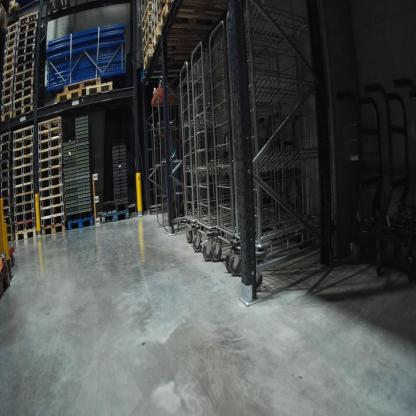pallet: (151, 26, 220, 63), (160, 2, 233, 35), (142, 50, 197, 72), (63, 73, 102, 95), (91, 170, 104, 228), (100, 205, 132, 228), (68, 212, 93, 237), (39, 200, 65, 221), (12, 124, 37, 144), (84, 82, 115, 98), (37, 153, 64, 171), (37, 136, 62, 155), (38, 116, 64, 134), (38, 146, 62, 165), (40, 184, 65, 202), (49, 0, 70, 21), (13, 102, 36, 121), (57, 89, 84, 105), (13, 134, 38, 151), (13, 42, 39, 58), (40, 213, 67, 228), (13, 143, 34, 162), (14, 67, 36, 85), (14, 218, 37, 235), (39, 195, 65, 210), (38, 175, 62, 191), (12, 86, 36, 102), (14, 77, 35, 95), (13, 94, 34, 112), (38, 166, 63, 181), (13, 200, 35, 217), (12, 153, 35, 169), (14, 181, 34, 199), (14, 51, 38, 66), (1, 265, 11, 301), (12, 162, 34, 178), (14, 57, 36, 73), (17, 34, 37, 51), (17, 11, 39, 26), (39, 225, 66, 237), (38, 128, 61, 142), (13, 190, 35, 204), (7, 2, 23, 21), (13, 210, 36, 223), (12, 174, 36, 186), (14, 229, 39, 240), (17, 28, 38, 40), (17, 21, 39, 32), (142, 13, 151, 38), (143, 35, 152, 59), (3, 32, 18, 46), (142, 1, 151, 24), (150, 13, 157, 42), (0, 85, 15, 98), (2, 62, 14, 78), (3, 46, 15, 61), (1, 167, 12, 183), (2, 53, 15, 66), (4, 37, 18, 49), (2, 3, 8, 29), (142, 28, 151, 45), (1, 128, 10, 144), (2, 70, 14, 82), (5, 23, 17, 35), (1, 160, 12, 173), (1, 95, 14, 106), (152, 5, 158, 28), (1, 103, 12, 115), (3, 78, 14, 90), (1, 207, 11, 220), (5, 234, 15, 246), (0, 188, 10, 200), (1, 112, 13, 122), (0, 142, 9, 155), (0, 151, 8, 165), (1, 178, 9, 190), (3, 216, 12, 226), (5, 224, 12, 236), (2, 198, 10, 208), (152, 2, 157, 12)
